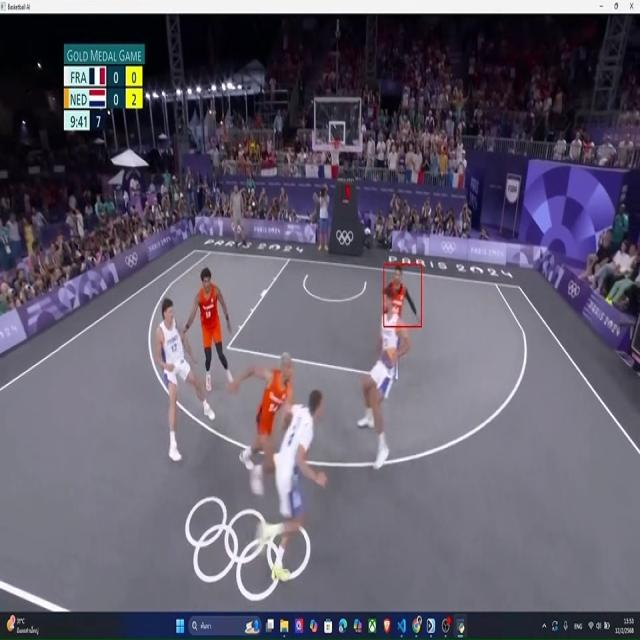basketball: (382, 347, 397, 370)
hoop: (327, 137, 342, 165)
